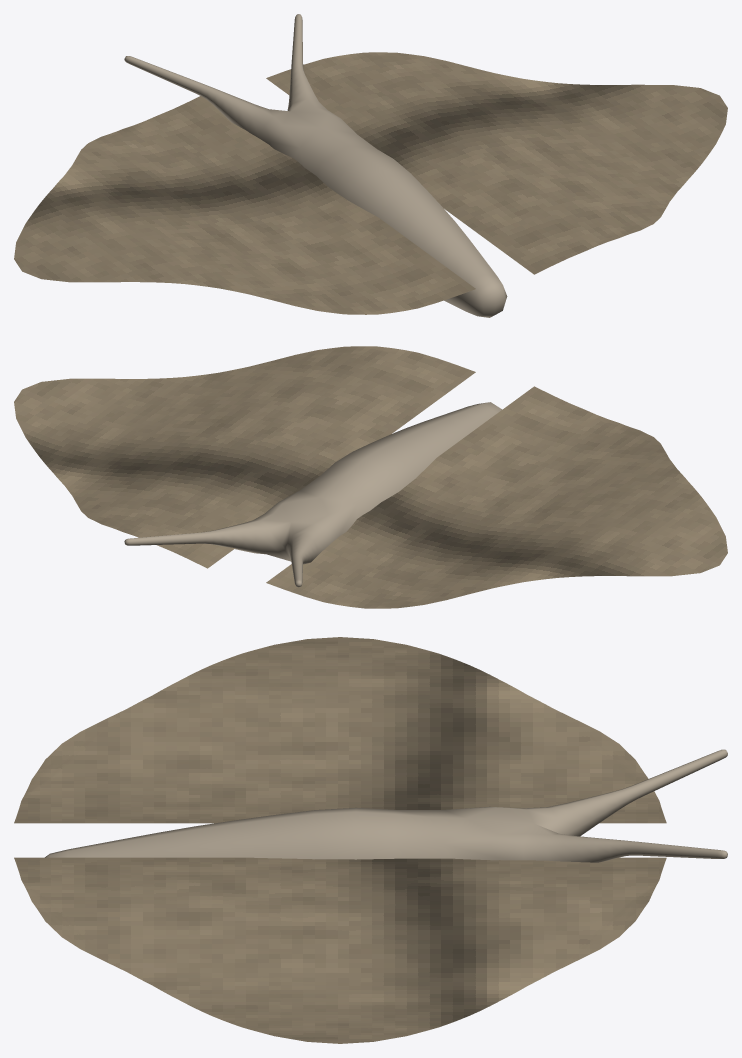
The model's file is moth.glb.
3 views of the same model, one above another, from view 1: azimuth 30°, elevation 25°; view 2: azimuth 150°, elevation 25°; view 3: azimuth 270°, elevation 25° (orthographic). The views are drawn at different scales.
Visible parts, largest first — view 1: WingL, WingR, Body; view 2: WingL, WingR, Body; view 3: WingR, WingL, Body.
Boxes of the visible parts, box(x1,y1,x2,y2) form: WingL: box(14, 96, 475, 314); WingR: box(266, 52, 727, 274); Body: box(124, 14, 507, 317); WingL: box(266, 386, 727, 608); WingR: box(14, 346, 475, 568); Body: box(124, 402, 502, 587); WingR: box(14, 857, 666, 1043); WingL: box(14, 637, 666, 823); Body: box(45, 749, 727, 862).
Size of the model in its own units: 0.024 by 0.00297 by 0.0175.
2 materials, 1 textured.
